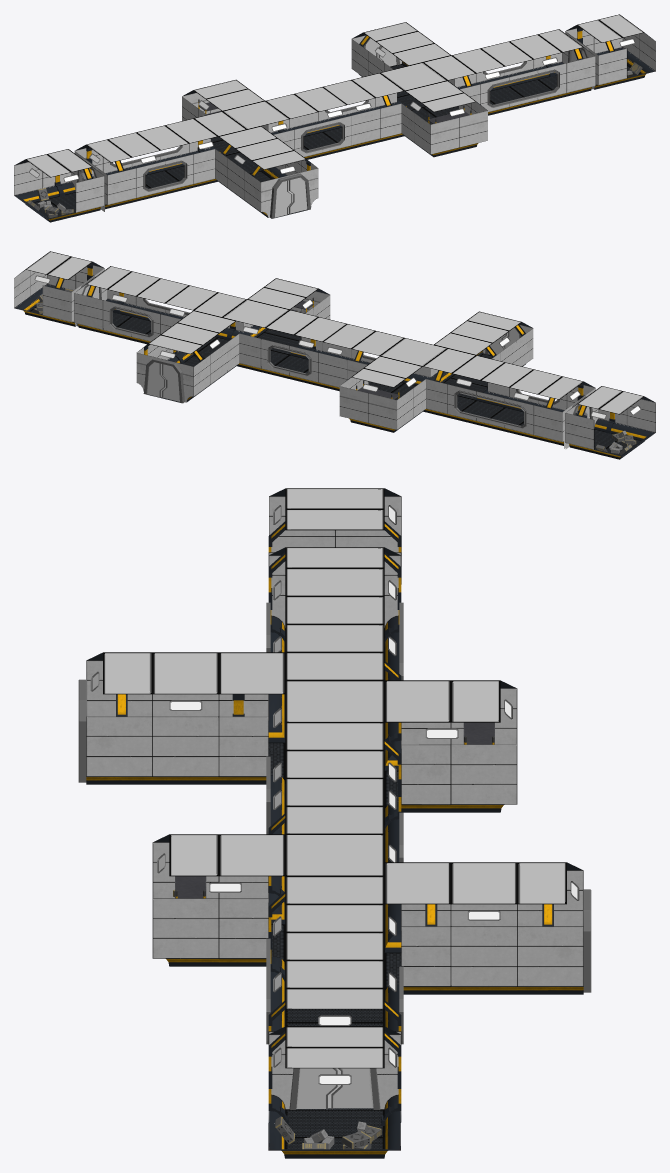
The model's file is scifi_hallway.obj.
The picture shows the model from 3 angles, top to bottom: view 1: azimuth 30°, elevation 25°; view 2: azimuth 150°, elevation 25°; view 3: azimuth 270°, elevation 25°; orthographic projection. The views are drawn at different scales.
Parts seen in each view (by area): view 1: Final_mat_nonwalls_0.002, Final_mat_nonwalls_0.001, Final_mat_refinewalls_0.001, Final_mat_refinewalls_0.002, Final_mat_walls_0.002, Final_mat_walls_0.001, Final_Blue_Light_0.002, Final_Blue_Light_0.001; view 2: Final_mat_nonwalls_0.001, Final_mat_nonwalls_0.002, Final_mat_refinewalls_0.002, Final_mat_refinewalls_0.001, Final_mat_walls_0.002, Final_mat_walls_0.001, Final_Blue_Light_0.002, Final_Blue_Light_0.001; view 3: Final_mat_nonwalls_0.001, Final_mat_nonwalls_0.002, Final_mat_refinewalls_0.002, Final_mat_refinewalls_0.001, Final_mat_walls_0.001, Final_mat_walls_0.002, Final_Blue_Light_0.001, Final_Blue_Light_0.002, Door_Left_mat_nonwalls_0.002, Door_Right_mat_nonwalls_0.002.
Part boxes in pixels (left/top/right/bottom): Final_mat_nonwalls_0.002: left=26, top=79, right=346, bottom=218; Final_mat_nonwalls_0.001: left=323, top=14, right=644, bottom=142; Final_mat_refinewalls_0.001: left=318, top=28, right=655, bottom=154; Final_mat_refinewalls_0.002: left=14, top=92, right=351, bottom=217; Final_mat_walls_0.002: left=14, top=90, right=347, bottom=222; Final_mat_walls_0.001: left=319, top=25, right=655, bottom=157; Final_Blue_Light_0.002: left=30, top=101, right=341, bottom=213; Final_Blue_Light_0.001: left=356, top=39, right=634, bottom=115; Final_mat_nonwalls_0.001: left=25, top=251, right=346, bottom=403; Final_mat_nonwalls_0.002: left=323, top=311, right=644, bottom=455; Final_mat_refinewalls_0.002: left=318, top=325, right=655, bottom=449; Final_mat_refinewalls_0.001: left=14, top=265, right=351, bottom=402; Final_mat_walls_0.002: left=322, top=322, right=655, bottom=459; Final_mat_walls_0.001: left=14, top=262, right=351, bottom=401; Final_Blue_Light_0.002: left=328, top=332, right=640, bottom=418; Final_Blue_Light_0.001: left=35, top=276, right=313, bottom=397; Final_mat_nonwalls_0.001: left=169, top=778, right=591, bottom=1149; Final_mat_nonwalls_0.002: left=78, top=488, right=500, bottom=811; Final_mat_refinewalls_0.002: left=86, top=496, right=517, bottom=804; Final_mat_refinewalls_0.001: left=152, top=842, right=583, bottom=1109; Final_mat_walls_0.001: left=153, top=790, right=583, bottom=1158; Final_mat_walls_0.002: left=86, top=488, right=516, bottom=862; Final_Blue_Light_0.001: left=159, top=792, right=577, bottom=1083; Final_Blue_Light_0.002: left=92, top=507, right=510, bottom=780; Door_Left_mat_nonwalls_0.002: left=333, top=1068, right=373, bottom=1108; Door_Right_mat_nonwalls_0.002: left=296, top=1068, right=335, bottom=1108.
Size of the model in its own units: 84.82 by 6 by 30.94.
Materials: 4 (3 with a texture image).
